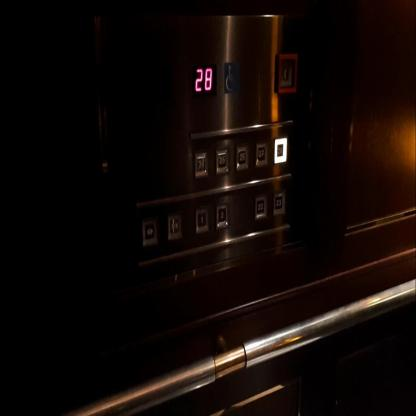1: (195, 206, 209, 233)
2: (214, 202, 229, 228)
22: (254, 193, 267, 219)
23: (272, 191, 286, 217)
24: (194, 149, 209, 178)
25: (214, 147, 229, 175)
26: (235, 144, 250, 172)
27: (254, 140, 269, 168)
28: (273, 136, 288, 164)
CH: (223, 61, 240, 92)
bt_keyhole: (275, 51, 299, 95)
close: (168, 212, 182, 240)
led: (191, 63, 217, 97)
open: (142, 218, 156, 246)
